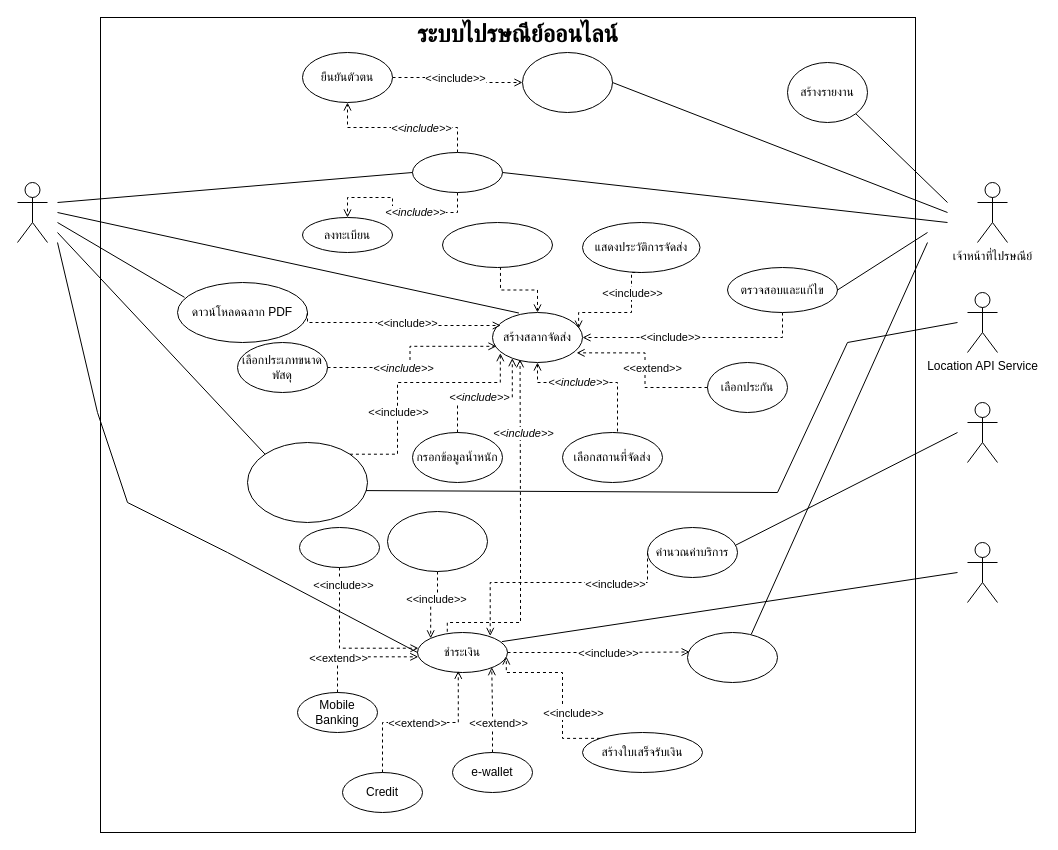
Image size: 1058x850. Some labels were removed from this diagram. The centre of each missing label's shape, as x and y in pixels:
Payment API Service: point 982,572
Pricing Calculator API Service: point 982,432
กรอกข้อมูลผู้จัดส่งและผู้รับ: point 497,245
ตรวจสอบรายได้: point 732,657
ตรวจสอบและอนุมัติ: point 567,82
ติดตามพัสดุ: point 307,482
ลูกค้า: point 32,212
สร้าง QR Code: point 339,547
สร้างหมายเลขพัสดุ: point 437,541
เข้าสู่ระบบ: point 457,172
